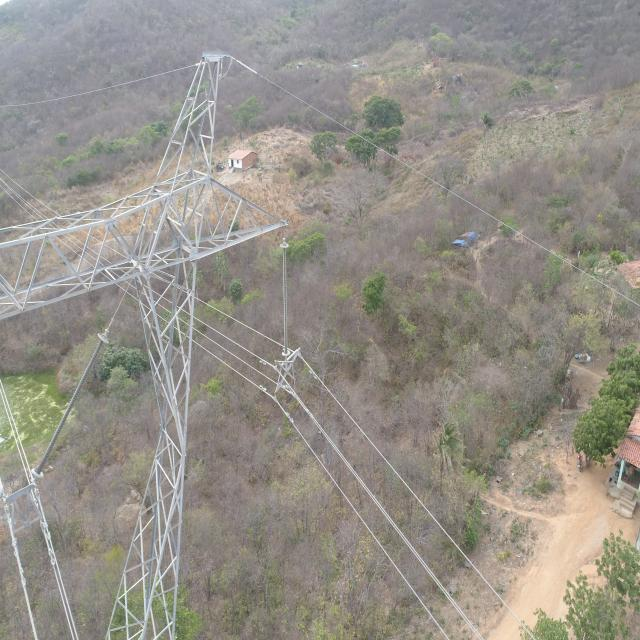杆塔: (0, 60, 287, 640)
正常电缆: (0, 42, 637, 310), (306, 362, 539, 640), (272, 397, 450, 640), (304, 405, 484, 640), (202, 341, 272, 401), (217, 304, 274, 348), (218, 328, 269, 372)
正常绝缘子: (278, 230, 294, 371)
